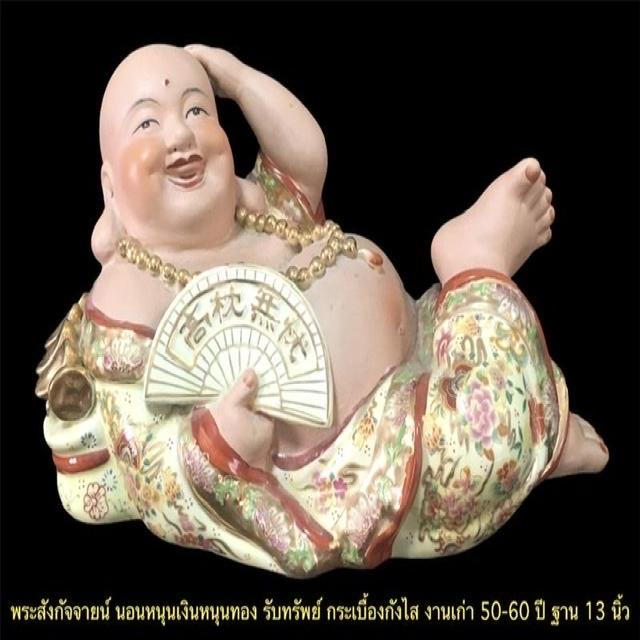Smiling Buddha: (75, 33, 370, 450)
